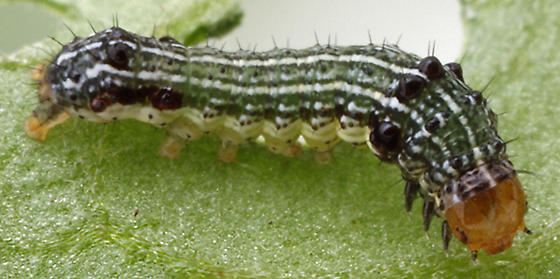Armyworm: (39, 29, 539, 266)
